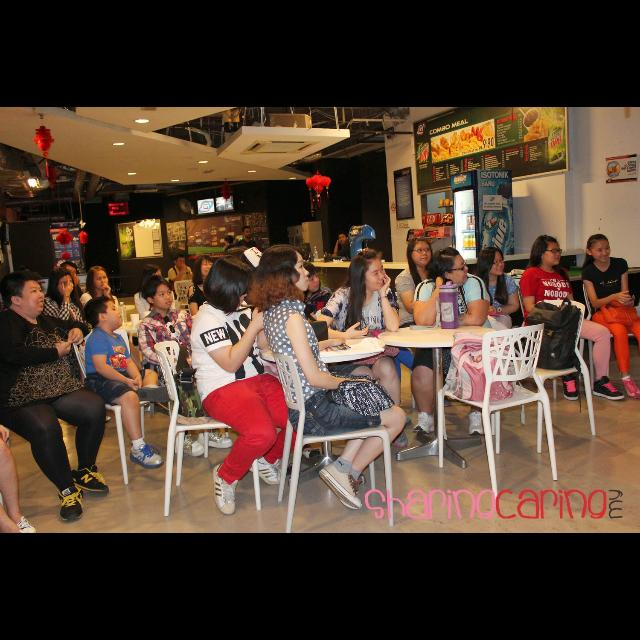head: (210, 254, 250, 310), (2, 272, 46, 314), (351, 250, 387, 290), (433, 248, 469, 288), (354, 250, 386, 292), (85, 296, 124, 330), (144, 278, 174, 310), (478, 246, 506, 276), (533, 236, 561, 266), (586, 234, 612, 264), (407, 238, 433, 266), (299, 261, 321, 293), (52, 269, 74, 297), (141, 264, 163, 290), (89, 267, 109, 291), (195, 255, 215, 278), (174, 255, 186, 269), (338, 233, 350, 245)
person: (245, 241, 409, 513), (188, 252, 314, 518), (0, 268, 112, 524), (312, 245, 410, 450), (517, 234, 627, 402), (137, 274, 236, 460), (81, 294, 175, 472), (410, 245, 494, 439), (393, 236, 475, 408), (37, 266, 119, 426), (76, 264, 154, 392), (462, 246, 524, 396), (272, 260, 338, 390), (186, 254, 254, 376), (133, 262, 185, 392), (167, 252, 205, 324), (327, 231, 359, 299)
